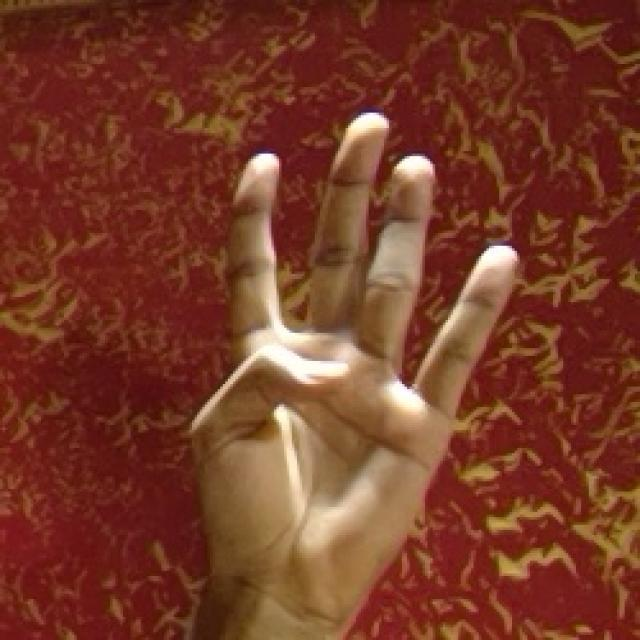Numeric-4: (197, 115, 523, 615)
